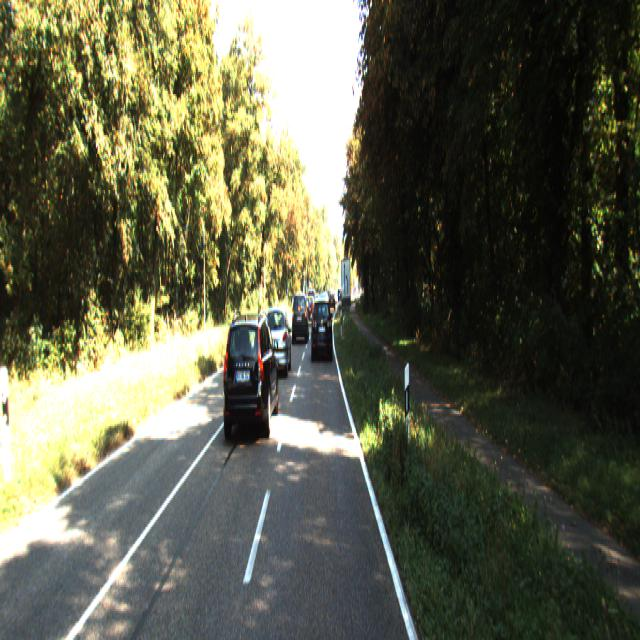Car: (221, 307, 279, 444), (264, 302, 291, 376), (311, 294, 332, 358), (292, 290, 308, 340)
